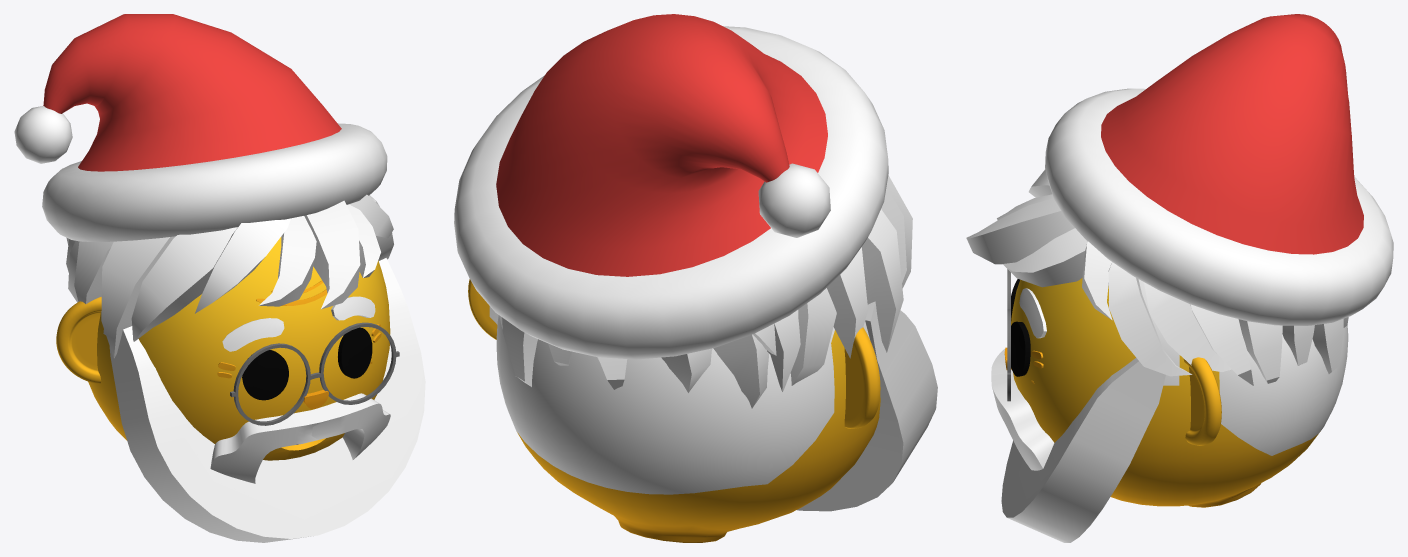
File: santa_claus.glb
3 views of the same model, side by side, from view 1: azimuth 30°, elevation 25°; view 2: azimuth 150°, elevation 25°; view 3: azimuth 270°, elevation 25° (orthographic). The views are drawn at different scales.
Parts seen in each view (by area): view 1: Circle.937, Circle.932, Cube.2284, Roundcube.192, Circle.933, Circle.929, Cylinder.171, Circle.936, Circle.931; view 2: Circle.937, Roundcube.192, Cube.2284, Circle.932, Cylinder.171; view 3: Circle.937, Roundcube.192, Cube.2284, Circle.932, Circle.933, Cylinder.171, Circle.929, Circle.931, Circle.936.
Part boxes in pixels (box(x1,y1,x2,y2)): Circle.937: box(14, 14, 387, 241); Circle.932: box(109, 258, 425, 542); Cube.2284: box(66, 194, 393, 358); Roundcube.192: box(88, 237, 390, 460); Circle.933: box(210, 393, 390, 483); Circle.929: box(242, 327, 372, 400); Cylinder.171: box(56, 297, 101, 383); Circle.936: box(230, 322, 399, 425); Circle.931: box(222, 296, 375, 351); Circle.937: box(454, 14, 888, 359); Roundcube.192: box(496, 315, 880, 542); Cube.2284: box(489, 175, 912, 408); Circle.932: box(797, 301, 937, 511); Cylinder.171: box(468, 279, 880, 428); Circle.937: box(1045, 14, 1393, 325); Roundcube.192: box(1011, 278, 1348, 507); Cube.2284: box(966, 169, 1348, 385); Circle.932: box(1001, 358, 1165, 542); Circle.933: box(991, 349, 1054, 470); Cylinder.171: box(1183, 357, 1221, 445); Circle.929: box(1011, 279, 1030, 376); Circle.931: box(1019, 288, 1046, 338); Circle.936: box(1007, 269, 1010, 401).
Bounding box in the file's own units: 1.76 × 2.38 × 1.92.
Materials: 1 (1 with a texture image).
